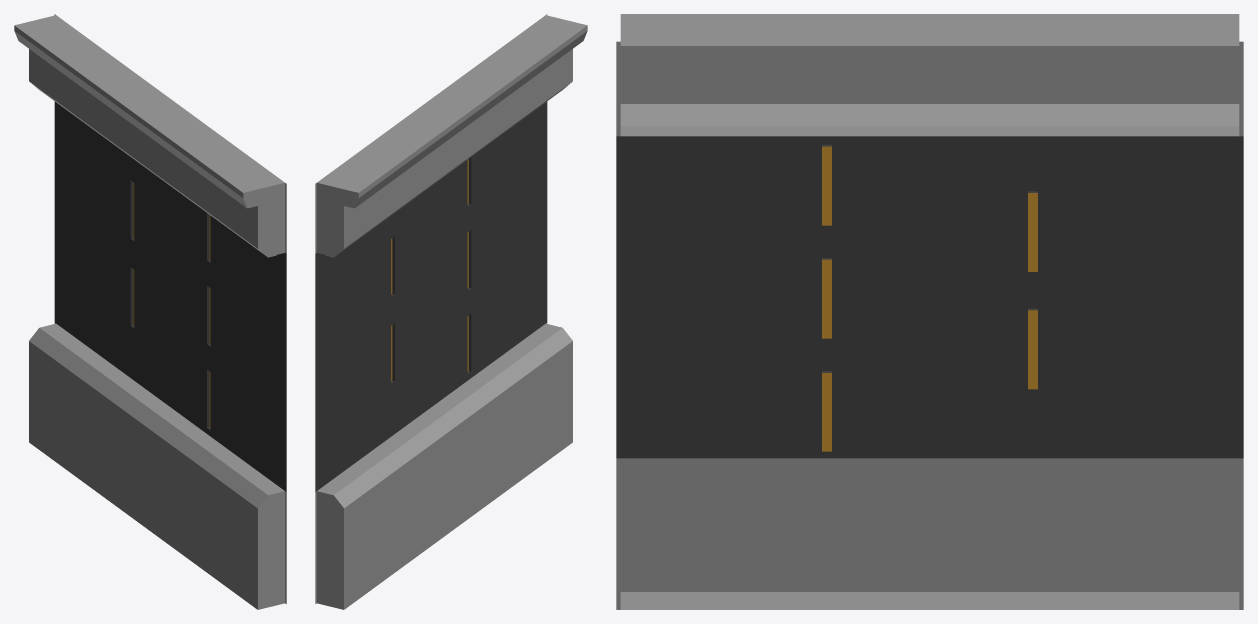
File: Wall_27.FBX
3 renders of one model, left to right at view 1: azimuth 30°, elevation 25°; view 2: azimuth 150°, elevation 25°; view 3: azimuth 270°, elevation 25°, orthographic. The views are drawn at different scales.
Visible parts, largest first — view 1: Wall_27_LOD0; view 2: Wall_27_LOD0; view 3: Wall_27_LOD0.
Part boxes in pixels (x1=…): Wall_27_LOD0: x1=14, y1=14, x2=286, y2=609; Wall_27_LOD0: x1=315, y1=14, x2=587, y2=609; Wall_27_LOD0: x1=616, y1=14, x2=1243, y2=609.
Size of what is drawn, in the model's own units: 20 by 180 by 180.
